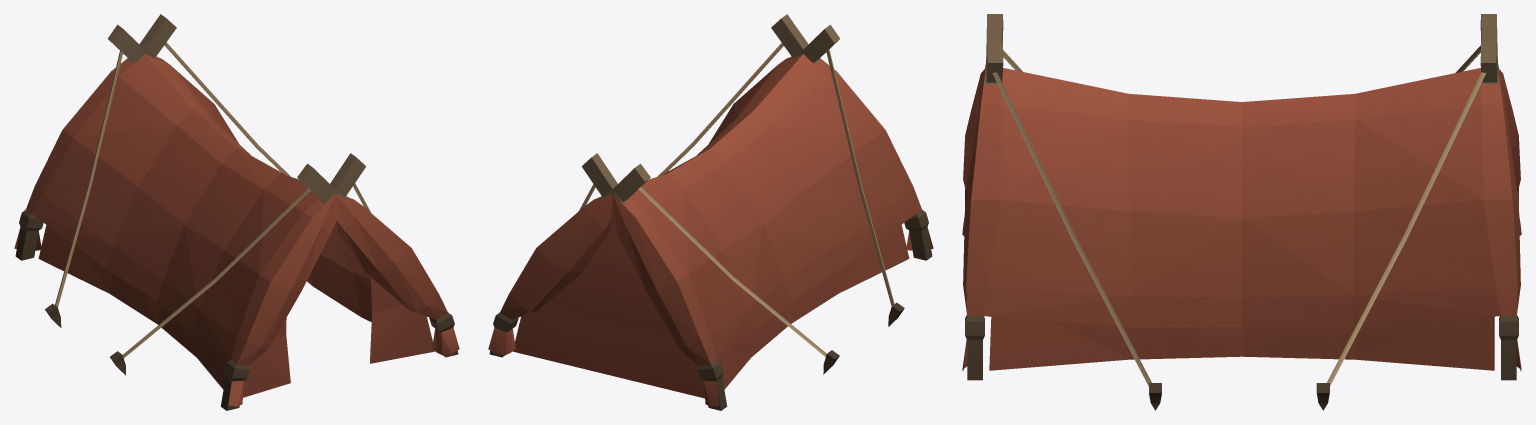
File: ZLP_Build_F_1.FBX
3 views of the same model, side by side, from view 1: azimuth 30°, elevation 25°; view 2: azimuth 150°, elevation 25°; view 3: azimuth 270°, elevation 25° (orthographic). The views are drawn at different scales.
Visible parts, largest first — view 1: ZLP_Build_F_1; view 2: ZLP_Build_F_1; view 3: ZLP_Build_F_1.
Part boxes in pixels (<box>): ZLP_Build_F_1: <box>14,14,459,410</box>; ZLP_Build_F_1: <box>488,14,933,410</box>; ZLP_Build_F_1: <box>962,14,1521,410</box>.
Size of the model in its own units: 275 by 189 by 326.
